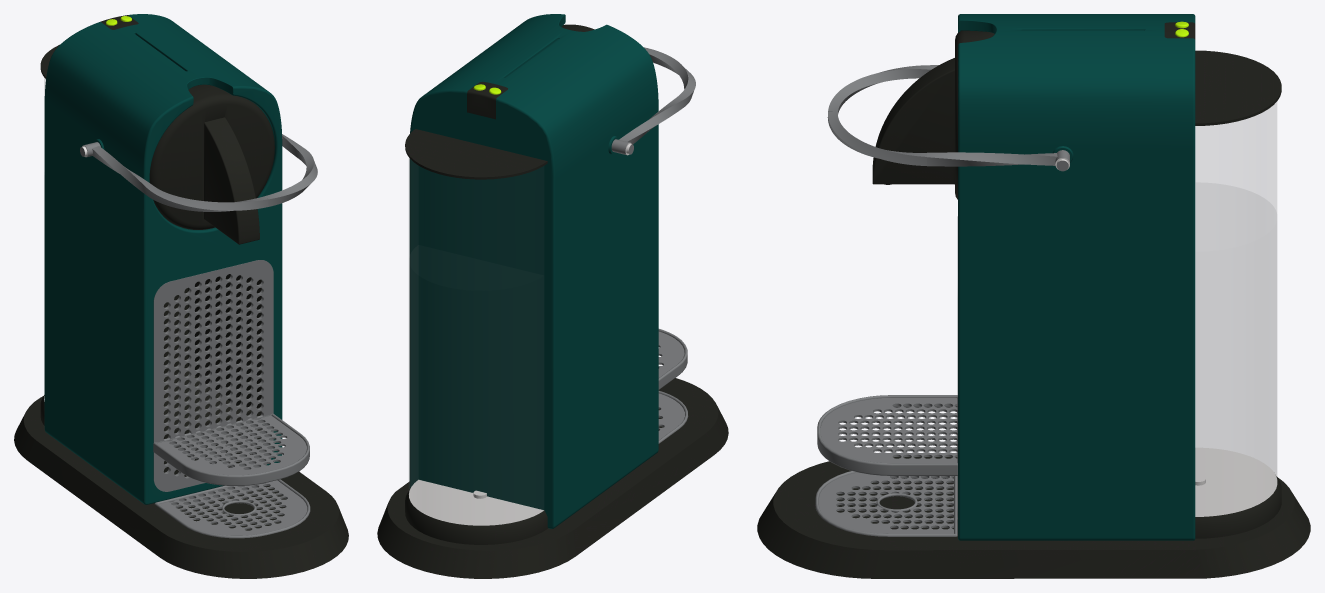
File: nespresso_machine_2.glb
The picture shows the model from 3 angles, left to right: view 1: azimuth 30°, elevation 25°; view 2: azimuth 150°, elevation 25°; view 3: azimuth 270°, elevation 25°; orthographic projection. The views are drawn at different scales.
Parts seen in each view (by area): view 1: geo1_plastic_0; view 2: geo1_plastic_0, geo1_glass_0; view 3: geo1_plastic_0, geo1_glass_0.
Part boxes in pixels (left/top/right/bottom): geo1_plastic_0: left=14, top=14, right=348, bottom=578; geo1_plastic_0: left=377, top=14, right=728, bottom=578; geo1_glass_0: left=409, top=158, right=418, bottom=490; geo1_plastic_0: left=757, top=14, right=1310, bottom=578; geo1_glass_0: left=1196, top=102, right=1276, bottom=476.
Size of the model in its own units: 0.00506 by 0.0116 by 0.0117.
3 materials, 3 textured.
